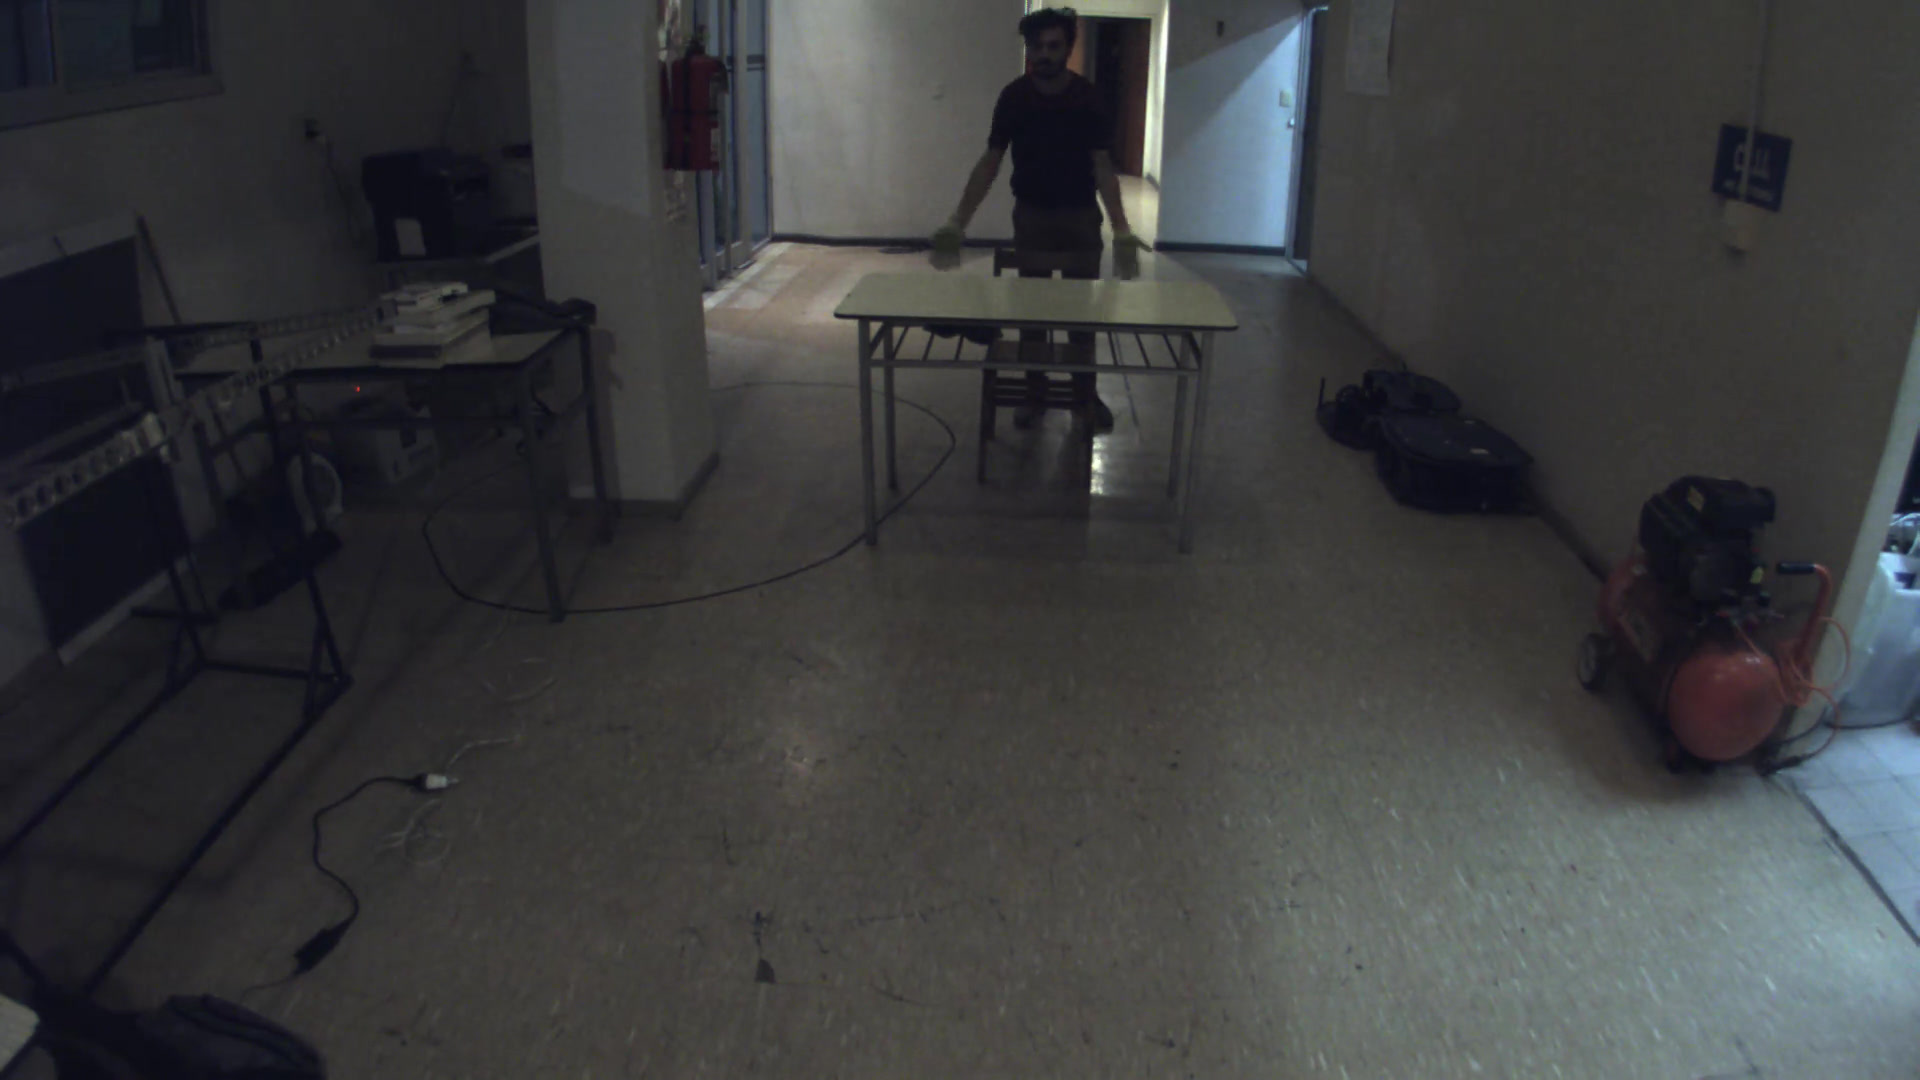hand: (1105, 239, 1171, 290), (920, 215, 973, 269)
